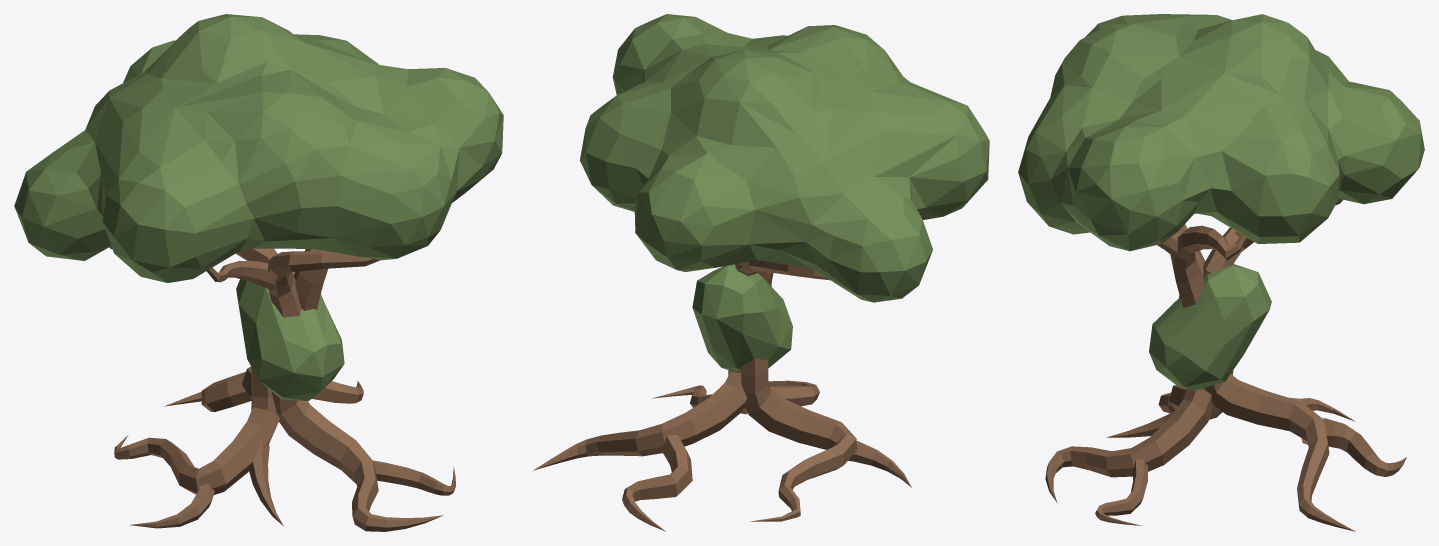
The model's file is tree_leafy2.fbx.
3 views of the same model, side by side, from view 1: azimuth 30°, elevation 25°; view 2: azimuth 150°, elevation 25°; view 3: azimuth 270°, elevation 25° (orthographic). The views are drawn at different scales.
Visible parts, largest first — view 1: Mball.014, NurbsPath.002, NurbsPath.001, NurbsPath; view 2: Mball.014, NurbsPath.001, NurbsPath, NurbsPath.002; view 3: Mball.014, NurbsPath, NurbsPath.002, NurbsPath.001.
Part boxes in pixels (x1,y1,x2,y2): Mball.014: (14, 14, 503, 400); NurbsPath.002: (206, 251, 455, 531); NurbsPath.001: (109, 246, 283, 528); NurbsPath: (164, 249, 363, 411); Mball.014: (580, 14, 989, 371); NurbsPath.001: (735, 260, 911, 521); NurbsPath: (533, 369, 747, 531); NurbsPath.002: (651, 271, 819, 414); Mball.014: (1018, 14, 1424, 390); NurbsPath: (1157, 225, 1406, 531); NurbsPath.002: (1045, 224, 1213, 525); NurbsPath.001: (1107, 198, 1355, 437).
Bounding box in the file's own units: 637 × 688 × 584.
